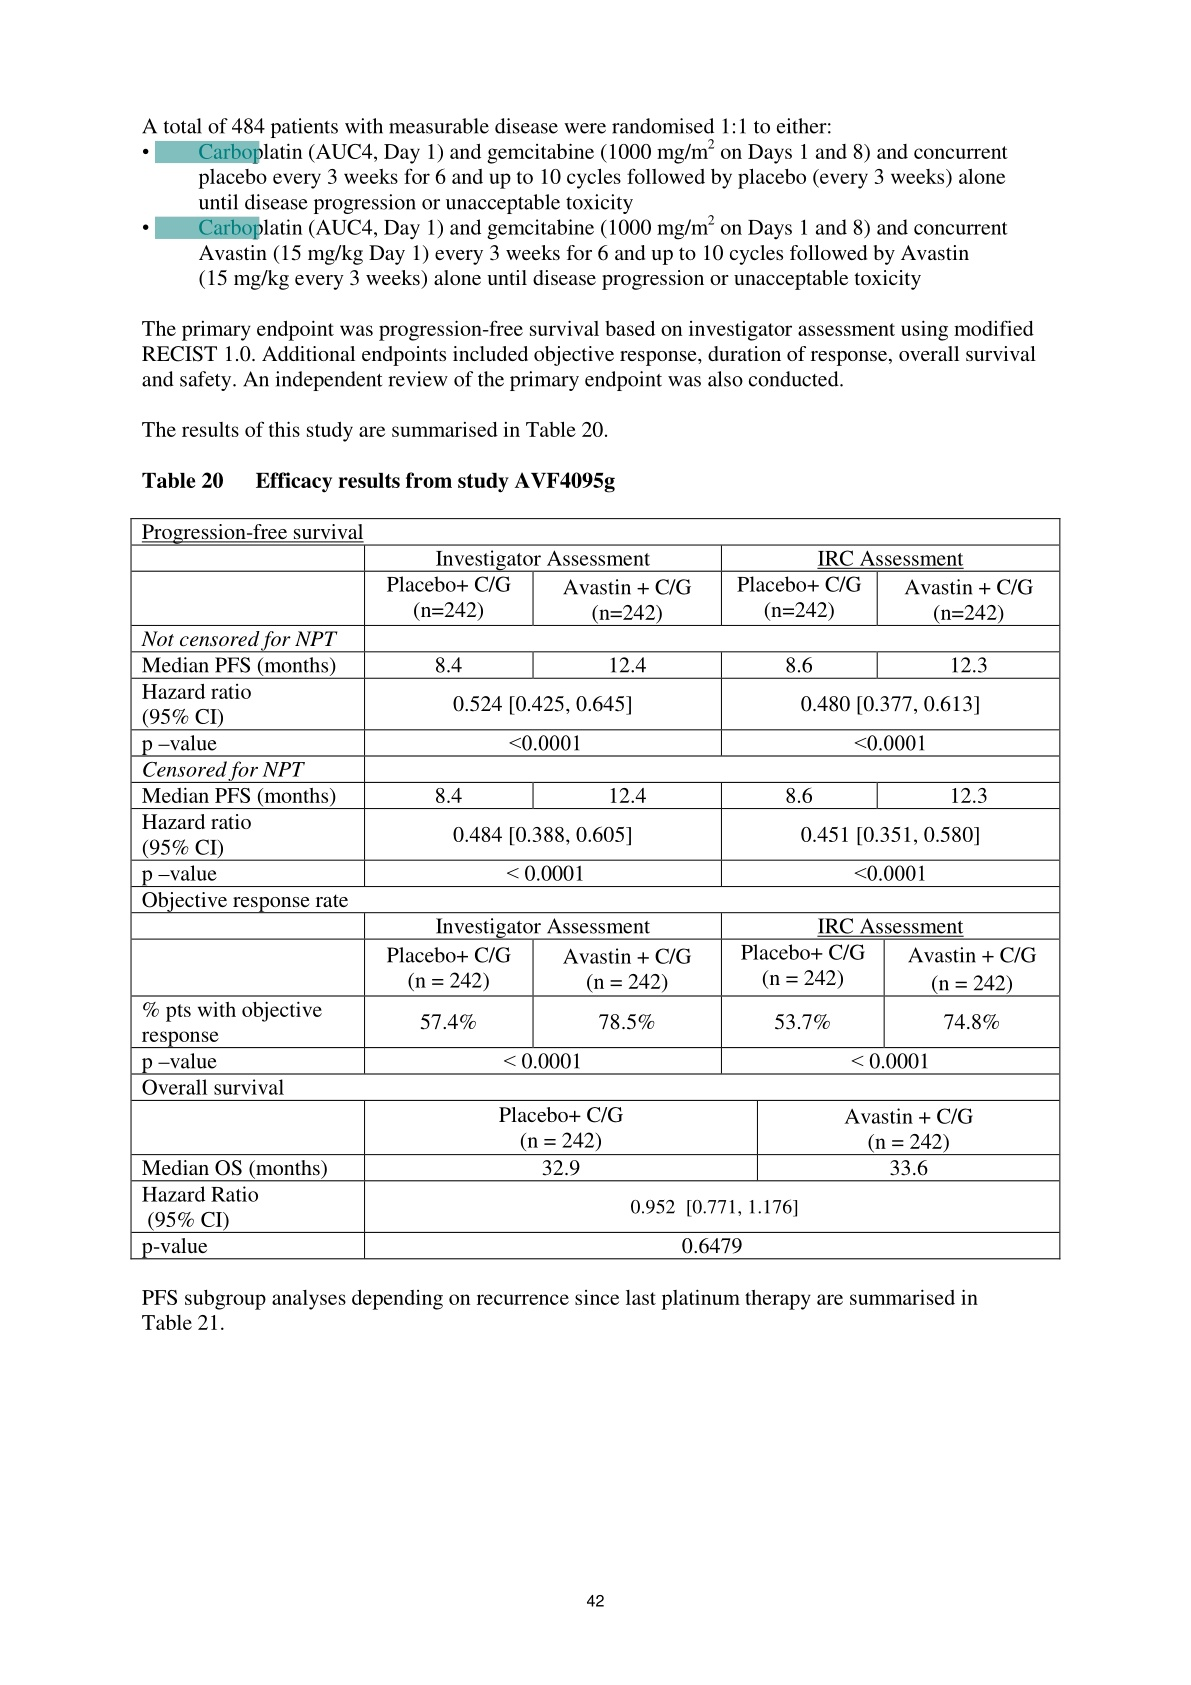merged_cells: (129, 516, 1061, 1260)
